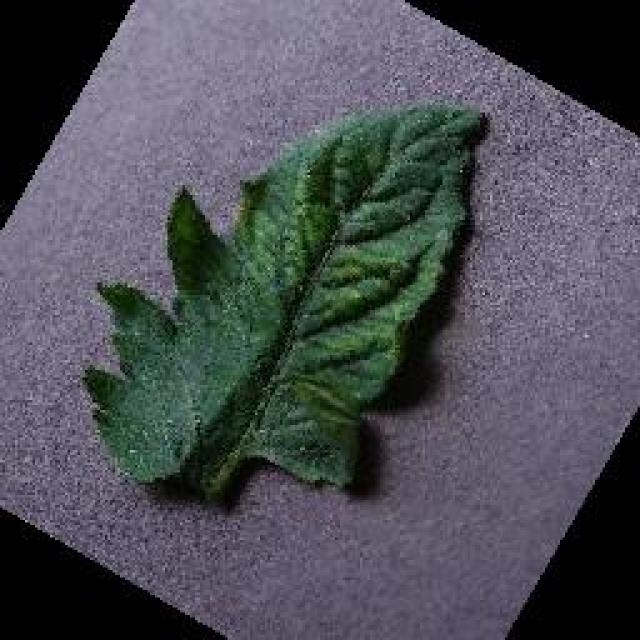Tomato___Tomato_mosaic_virus: (85, 102, 482, 498)
